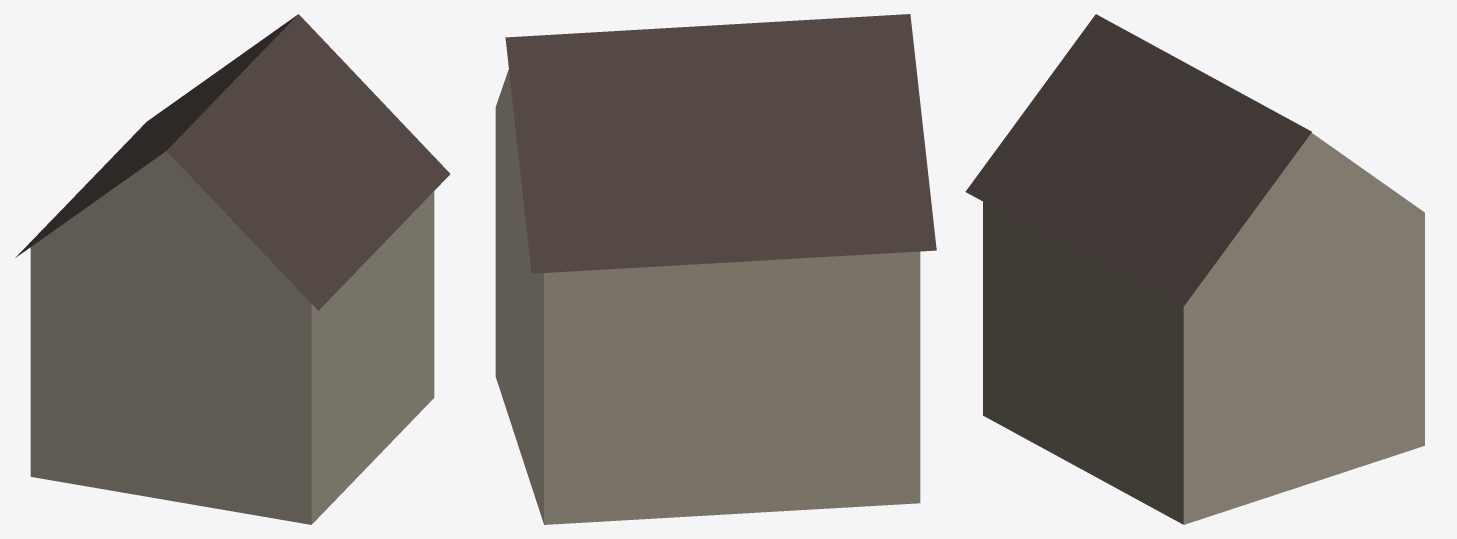
3 views of the same model, side by side, from view 1: azimuth 30°, elevation 25°; view 2: azimuth 150°, elevation 25°; view 3: azimuth 270°, elevation 25° (orthographic). The views are drawn at different scales.
Visible parts, largest first — view 1: buildings; view 2: buildings; view 3: buildings.
Boxes of the visible parts, x1,y1,x2,y2 form: buildings: (15, 14, 450, 524); buildings: (495, 14, 936, 524); buildings: (965, 14, 1424, 524).
Size of the model in its own units: 11.43 by 9.36 by 11.32.
